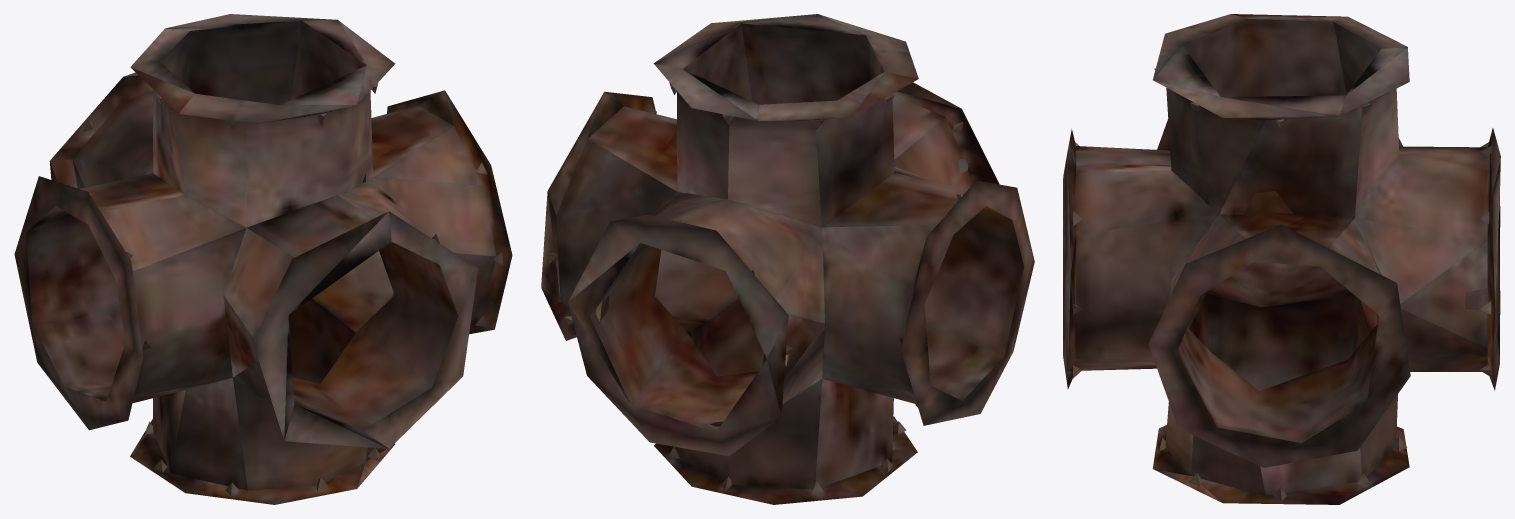
File: rusty_pipe_14.glb
The picture shows the model from 3 angles, left to right: view 1: azimuth 30°, elevation 25°; view 2: azimuth 150°, elevation 25°; view 3: azimuth 270°, elevation 25°; orthographic projection.
Parts seen in each view (by area): view 1: rusty_pipe_14; view 2: rusty_pipe_14; view 3: rusty_pipe_14.
Boxes of the visible parts, <box> form: rusty_pipe_14: <box>14,14,512,504</box>; rusty_pipe_14: <box>541,14,1034,504</box>; rusty_pipe_14: <box>1063,14,1500,504</box>.
Size of what is drawn, in the model's own units: 0.048 by 0.048 by 0.0479.
Materials: 1 (1 with a texture image).
